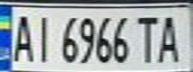6: (109, 12, 136, 65), (54, 12, 78, 64), (93, 12, 115, 64)
9: (75, 12, 96, 64)
A: (154, 11, 187, 64), (6, 10, 36, 63)
I: (30, 11, 57, 63)
T: (133, 12, 160, 64)
